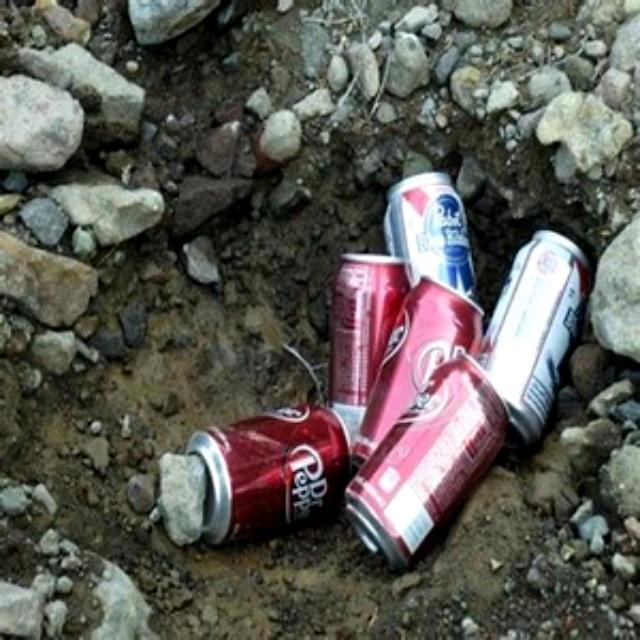Metal: (343, 357, 499, 563), (490, 225, 590, 438), (197, 413, 357, 541), (320, 253, 404, 422), (385, 170, 479, 294)
